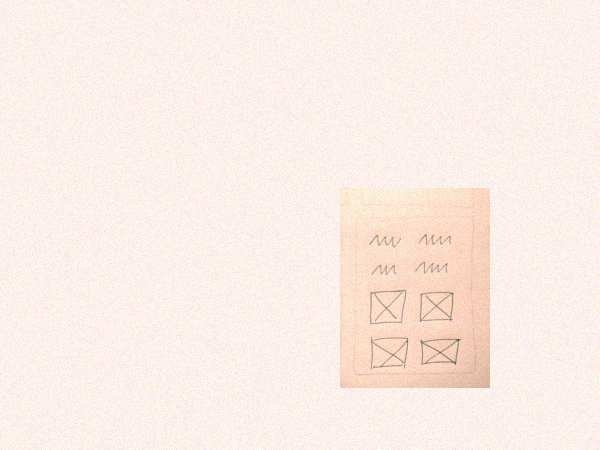image: (366, 335, 413, 373), (365, 289, 409, 327), (418, 337, 463, 368), (416, 291, 458, 324)
text: (366, 231, 404, 251), (416, 231, 457, 249), (414, 260, 451, 274), (370, 262, 399, 278)
